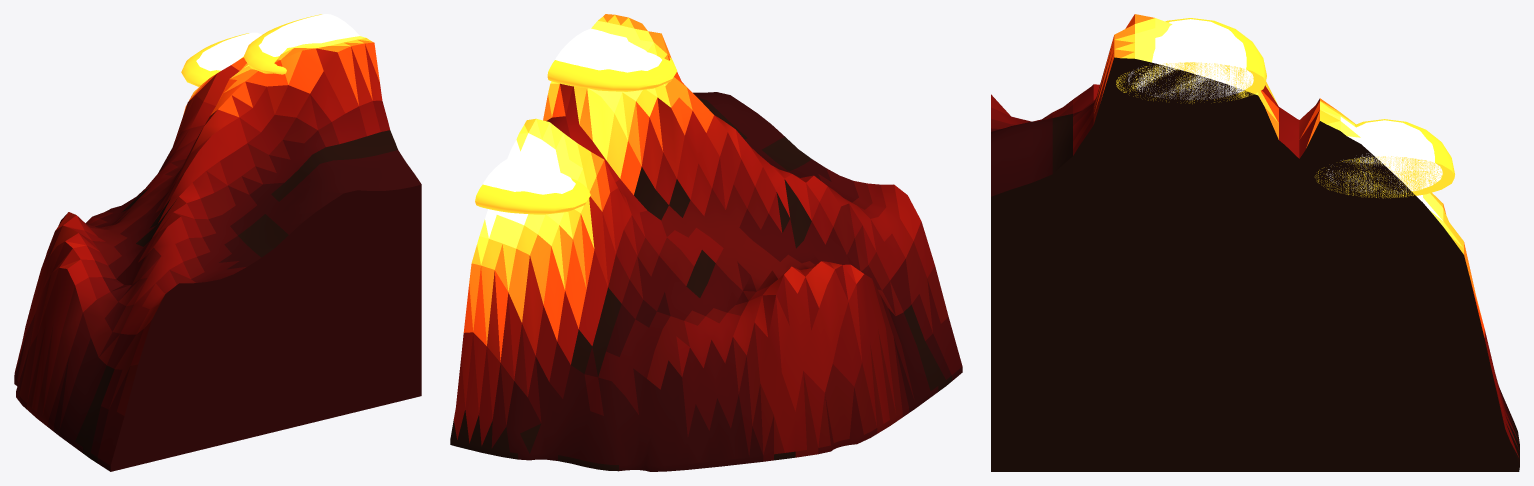
File: lava_grub_l_t1.glb
The picture shows the model from 3 angles, left to right: view 1: azimuth 30°, elevation 25°; view 2: azimuth 150°, elevation 25°; view 3: azimuth 270°, elevation 25°; orthographic projection. The views are drawn at different scales.
Parts seen in each view (by area): view 1: lava_grub_l_t1_grub_body, lava_grub_l_t1_grub_eye1, lava_grub_l_t1_grub_eye0, lava_grub_l_t1_grub_eye_rim1, lava_grub_l_t1_grub_eye_rim0; view 2: lava_grub_l_t1_grub_body, lava_grub_l_t1_grub_eye1, lava_grub_l_t1_grub_eye_rim1, lava_grub_l_t1_grub_eye_rim0, lava_grub_l_t1_grub_eye0; view 3: lava_grub_l_t1_grub_body, lava_grub_l_t1_grub_eye1, lava_grub_l_t1_grub_eye0, lava_grub_l_t1_grub_eye_rim0, lava_grub_l_t1_grub_eye_rim1.
Boxes of the visible parts, x1,y1,x2,y2 form: lava_grub_l_t1_grub_body: (14,36,421,471); lava_grub_l_t1_grub_eye1: (258,14,359,56); lava_grub_l_t1_grub_eye0: (196,32,261,71); lava_grub_l_t1_grub_eye_rim1: (243,14,321,74); lava_grub_l_t1_grub_eye_rim0: (181,33,248,87); lava_grub_l_t1_grub_body: (450,14,962,471); lava_grub_l_t1_grub_eye1: (555,28,661,72); lava_grub_l_t1_grub_eye_rim1: (547,57,676,91); lava_grub_l_t1_grub_eye_rim0: (475,178,590,214); lava_grub_l_t1_grub_eye0: (483,159,575,194); lava_grub_l_t1_grub_body: (991,14,1519,471); lava_grub_l_t1_grub_eye1: (1128,19,1253,99); lava_grub_l_t1_grub_eye0: (1326,120,1442,193); lava_grub_l_t1_grub_eye_rim0: (1315,119,1454,198); lava_grub_l_t1_grub_eye_rim1: (1116,18,1266,103).
Bounding box in the file's own units: 15.99 × 15.67 × 17.99.
